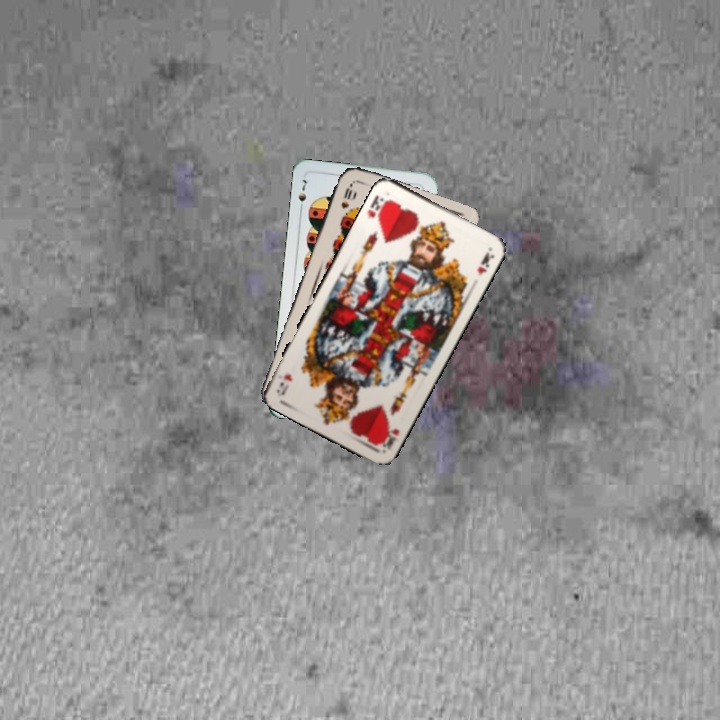HK: (364, 190, 392, 223), (375, 421, 402, 452)
S10: (337, 179, 355, 211)
S7: (294, 175, 311, 214)
